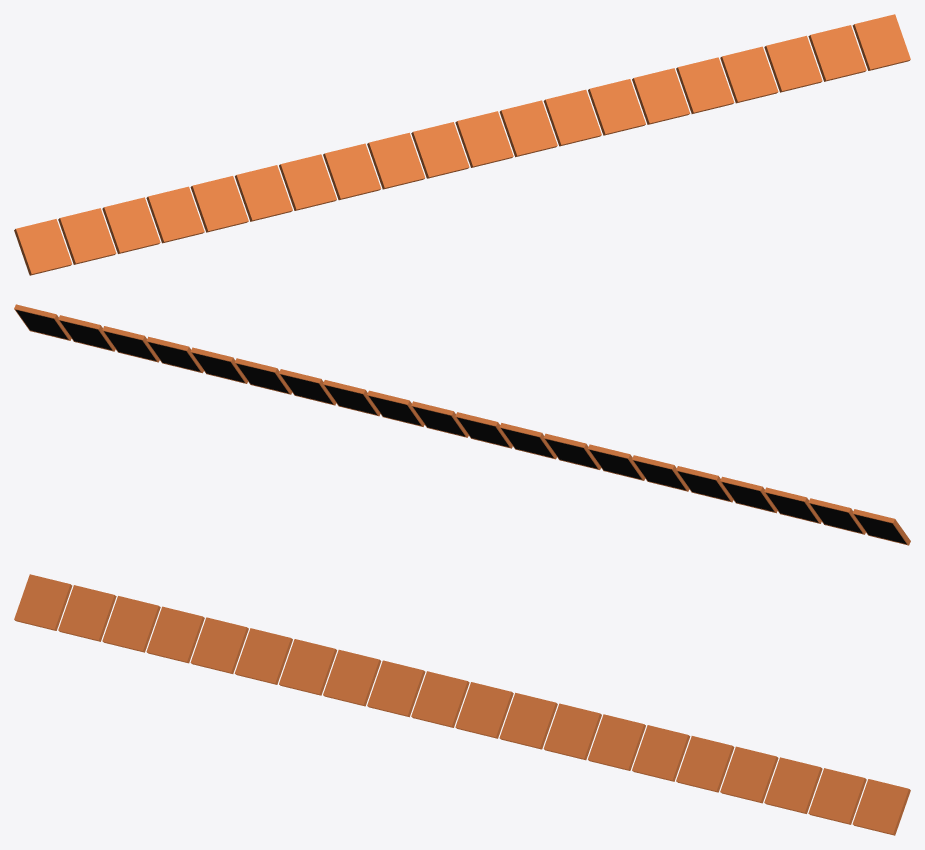
The model's file is airVent[mini][TOP].fbx.
3 renders of one model, top to bottom at view 1: azimuth 30°, elevation 25°; view 2: azimuth 150°, elevation 25°; view 3: azimuth 330°, elevation 25°, orthographic.
Parts seen in each view (by area): view 1: VentAir0[mini][TOP].001; view 2: VentAir0[mini][TOP].001; view 3: VentAir0[mini][TOP].001.
Boxes of the visible parts, x1,y1,x2,y2 form: VentAir0[mini][TOP].001: [14, 14, 910, 275]; VentAir0[mini][TOP].001: [14, 304, 910, 545]; VentAir0[mini][TOP].001: [14, 574, 910, 835].
Bounding box in the file's own units: 840 × 33.69 × 29.46.
